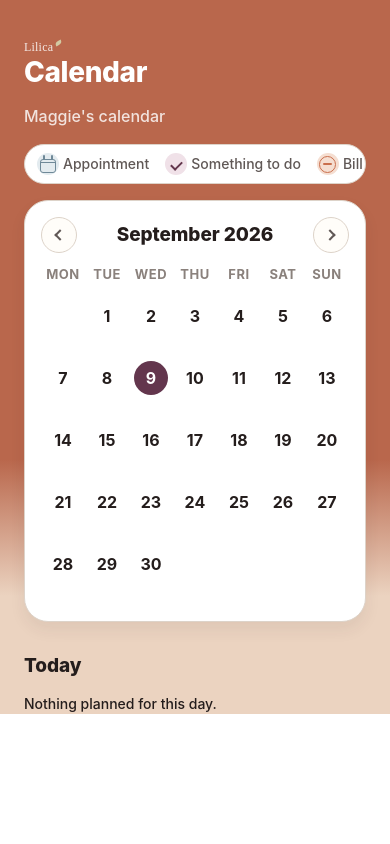
Test: Phase 10: Calendar month/date rendering › moving between months does not mutate records and updates the visible month
This screenshot has width=390, height=844.
Click the button named "Next month": (331, 235) 313,217 -> 349,253
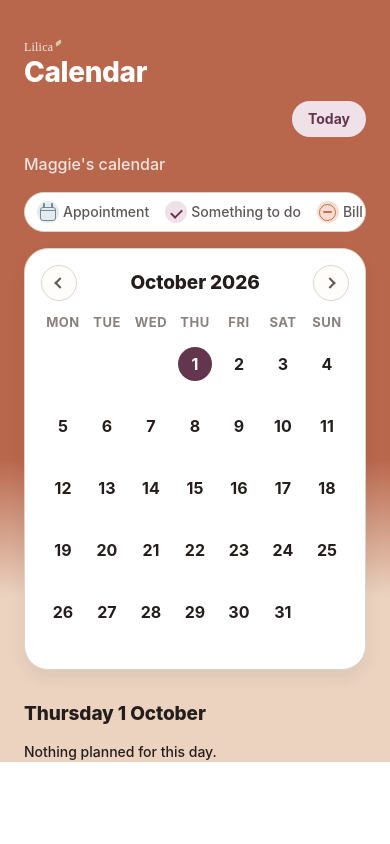
Expected: the text "October 2026" is shown, 130,271 -> 260,295
Click the button named "Previous month": (59, 283) 41,265 -> 77,301
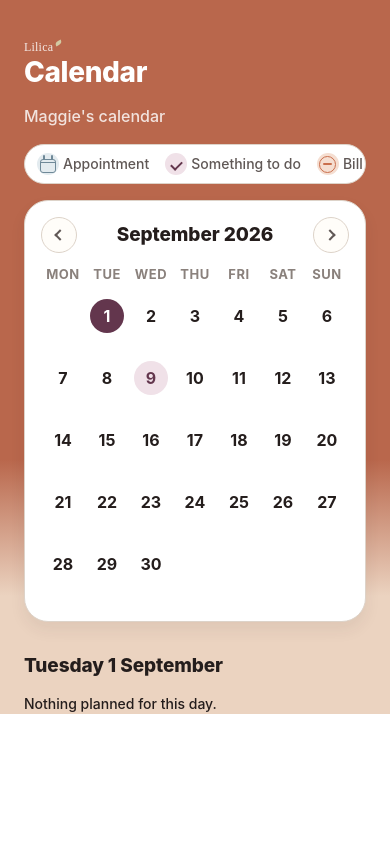
Expected: the text "September 2026" is shown, 117,223 -> 273,247
